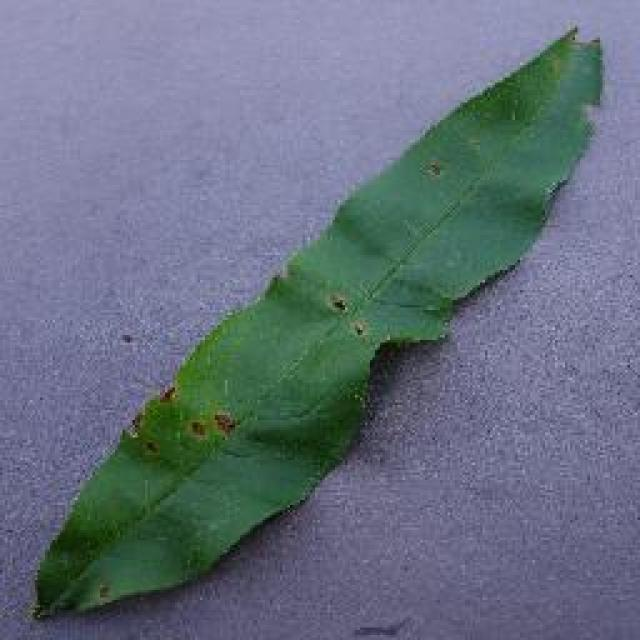Peach_Bacterial_Spot: (114, 330, 344, 477)
